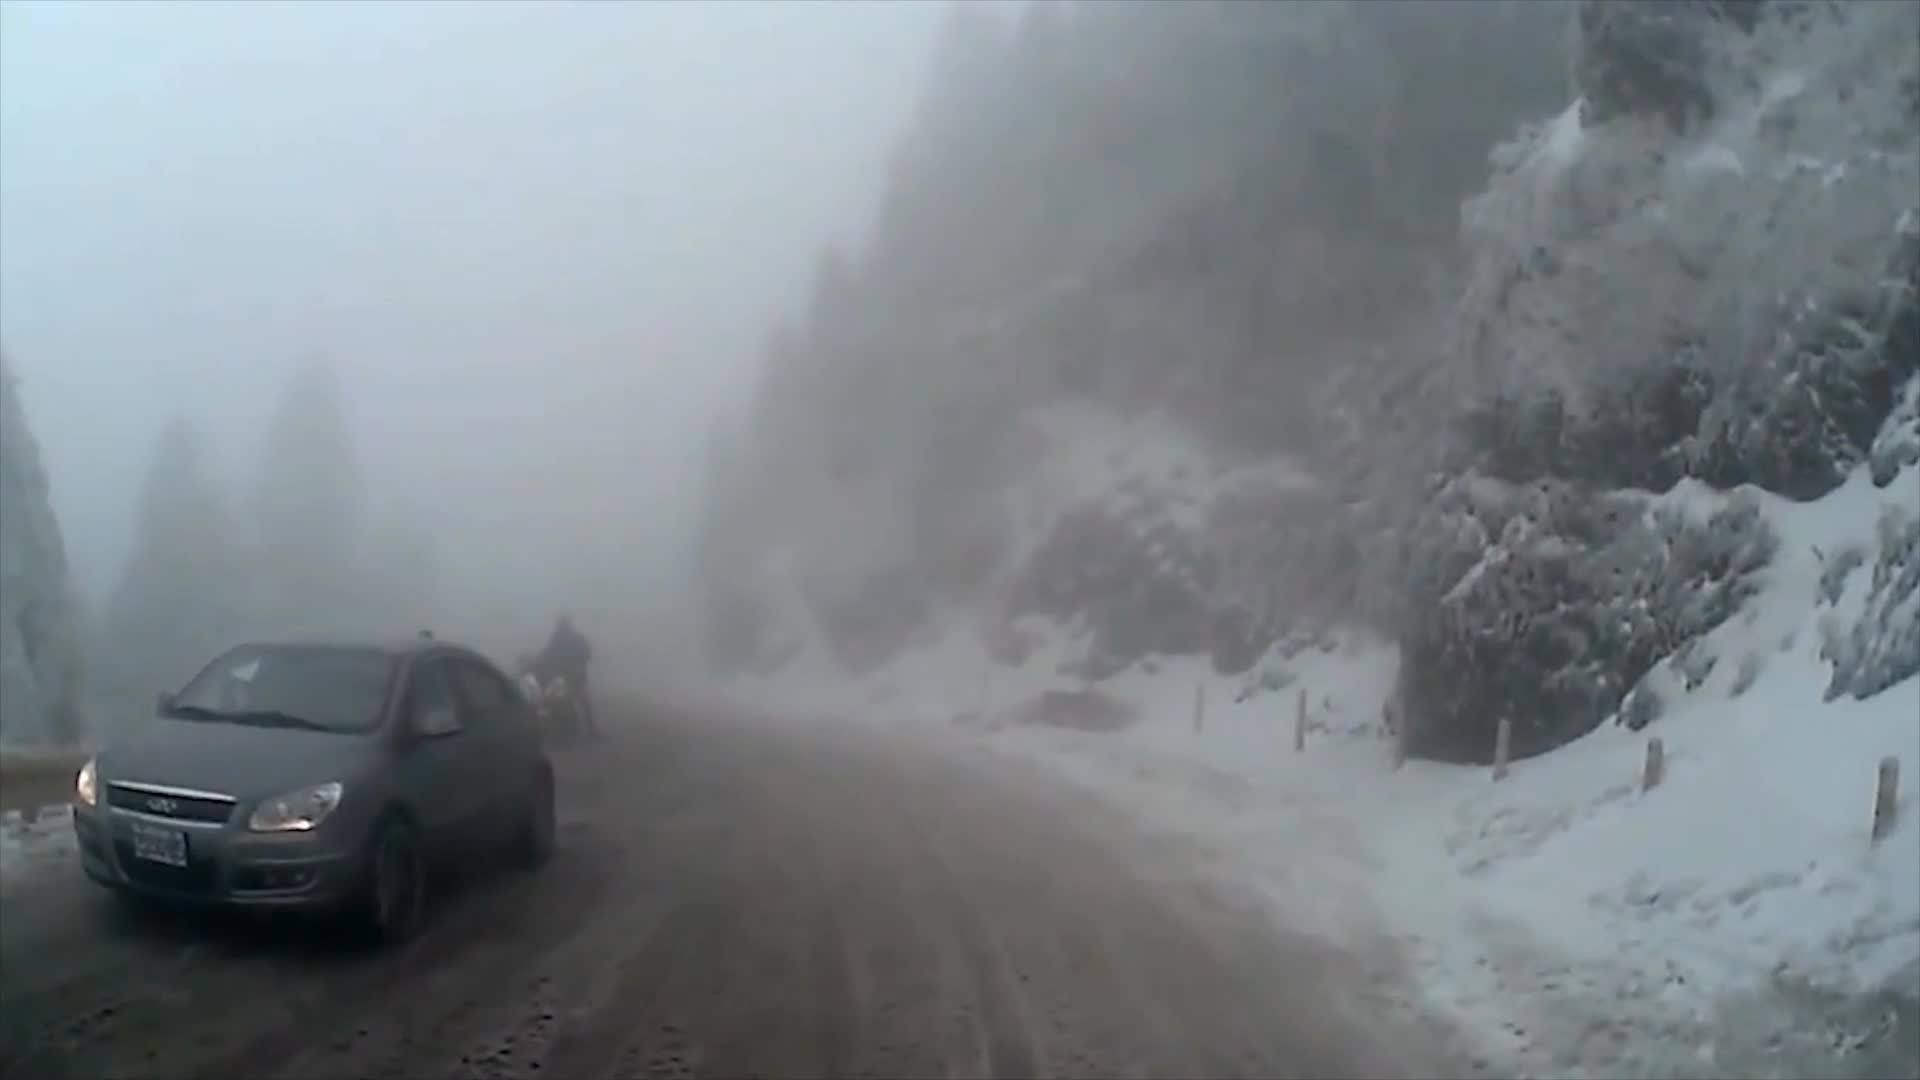vehicle: (70, 636, 558, 951)
